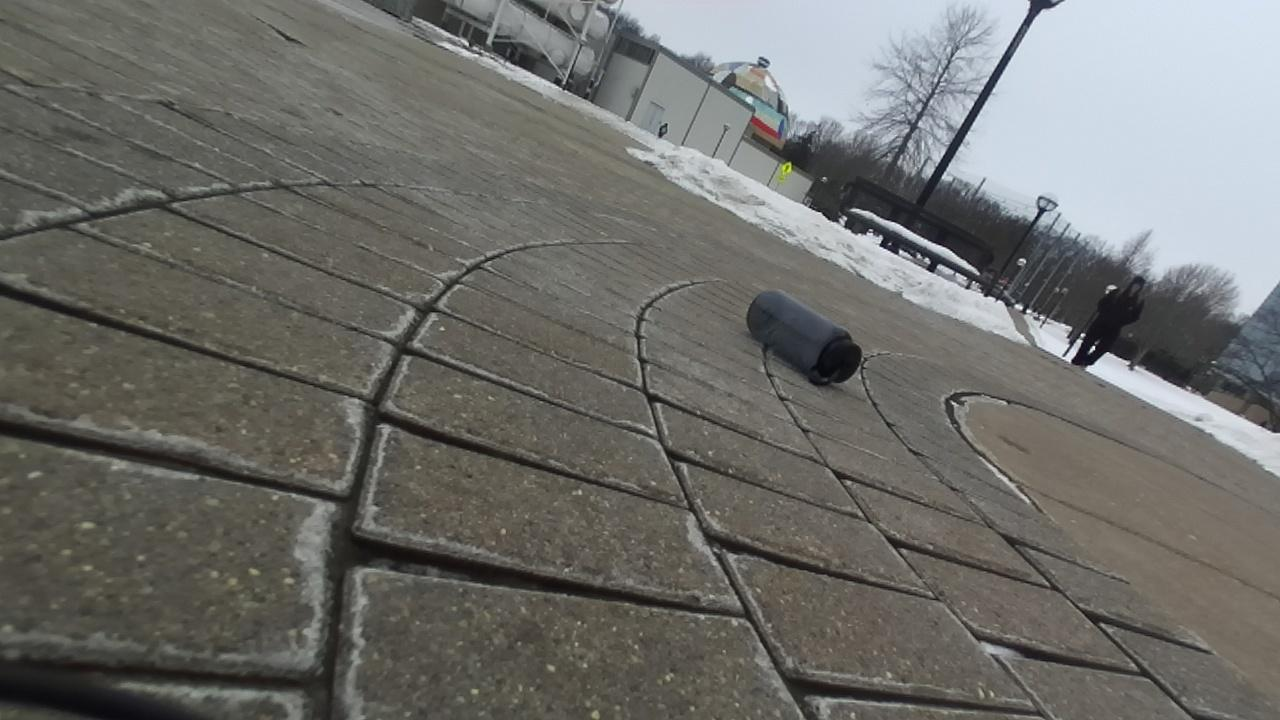bottle: (746, 290, 861, 382)
